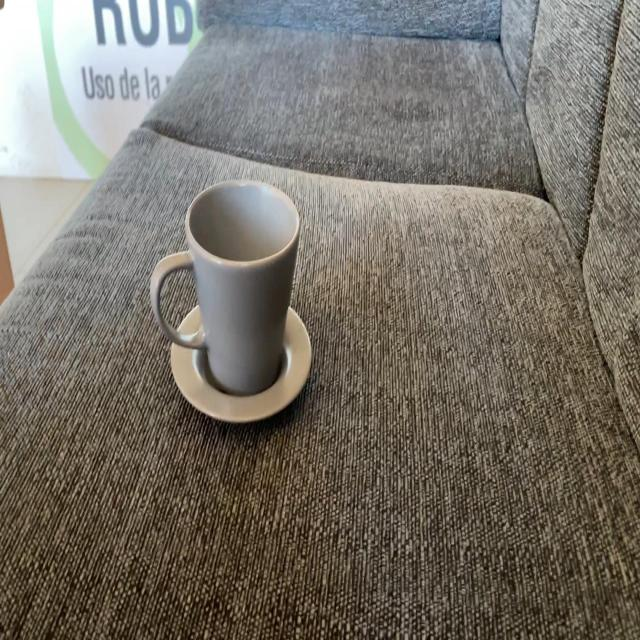cup: (150, 179, 301, 408)
